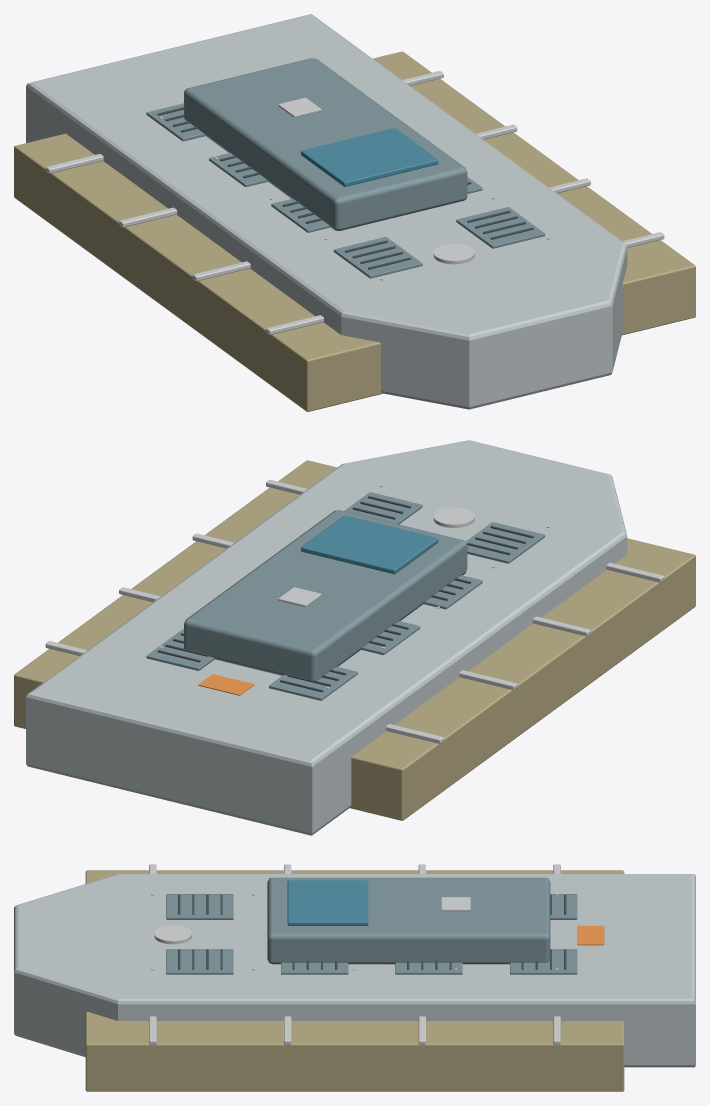
The picture shows the model from 3 angles, top to bottom: view 1: azimuth 30°, elevation 25°; view 2: azimuth 150°, elevation 25°; view 3: azimuth 270°, elevation 25°; orthographic projection. The views are drawn at different scales.
Visible parts, largest first — view 1: mining-barge-core; view 2: mining-barge-core; view 3: mining-barge-core.
Part boxes in pixels (bbox=[...]): mining-barge-core: bbox=[14, 14, 695, 411]; mining-barge-core: bbox=[14, 440, 695, 835]; mining-barge-core: bbox=[14, 864, 695, 1091].
Size of the model in its own units: 9.94 by 3.23 by 16.2.
